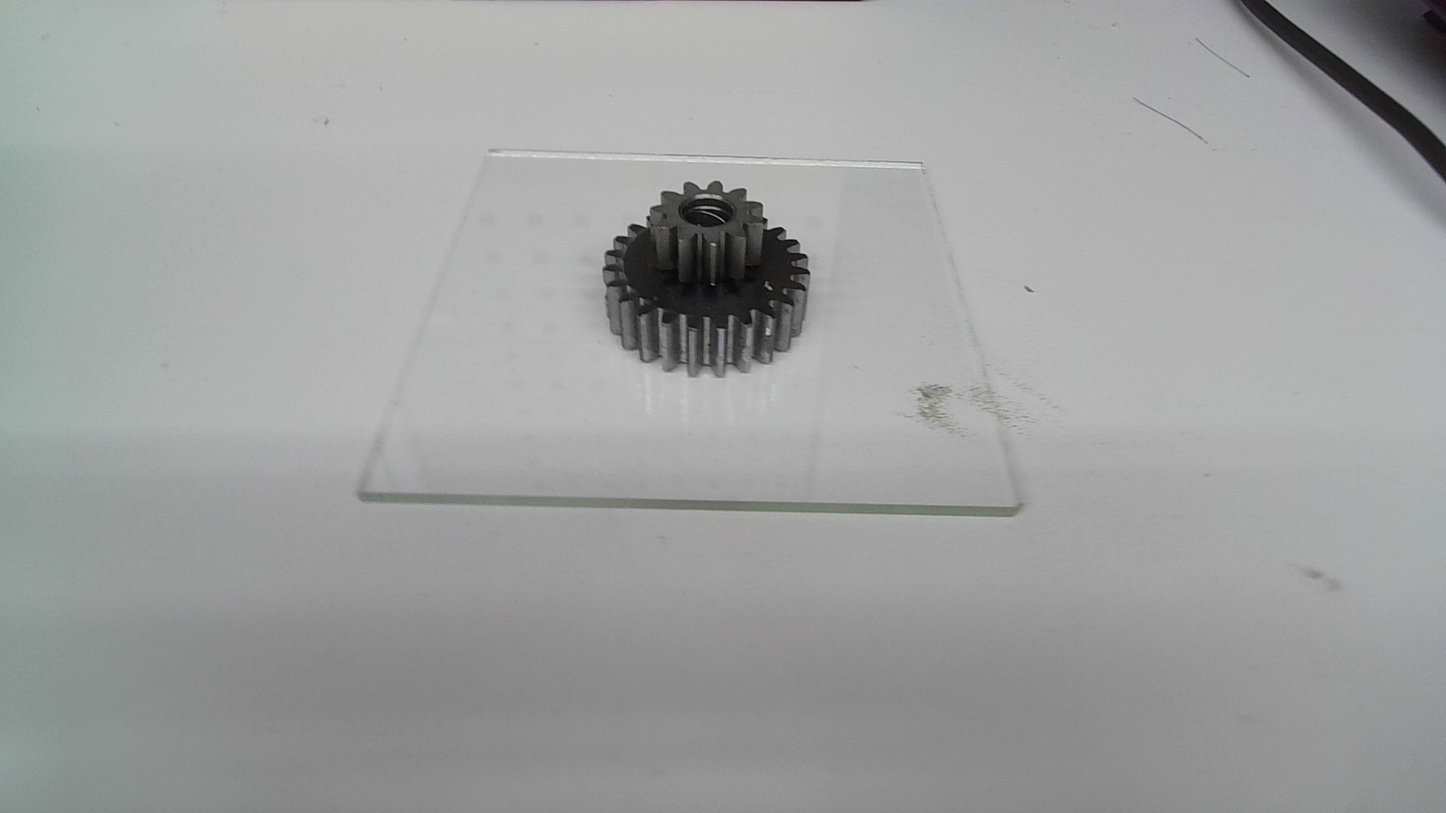gear: (599, 181, 815, 379)
